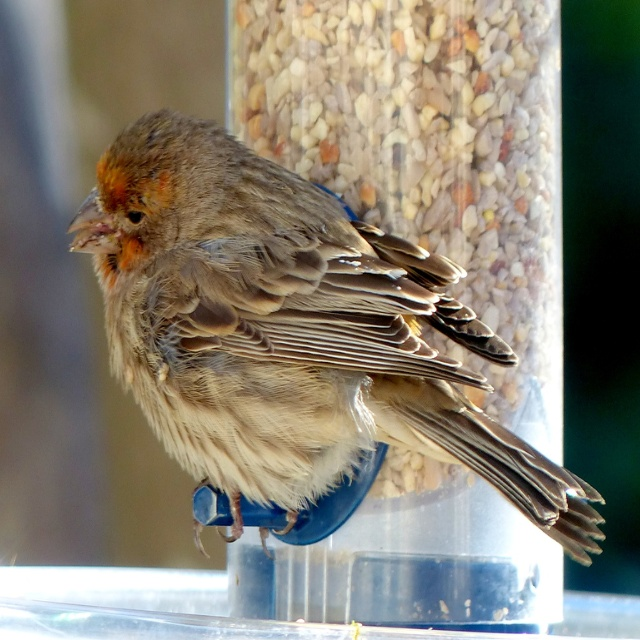Sparrow: (66, 108, 606, 579)
